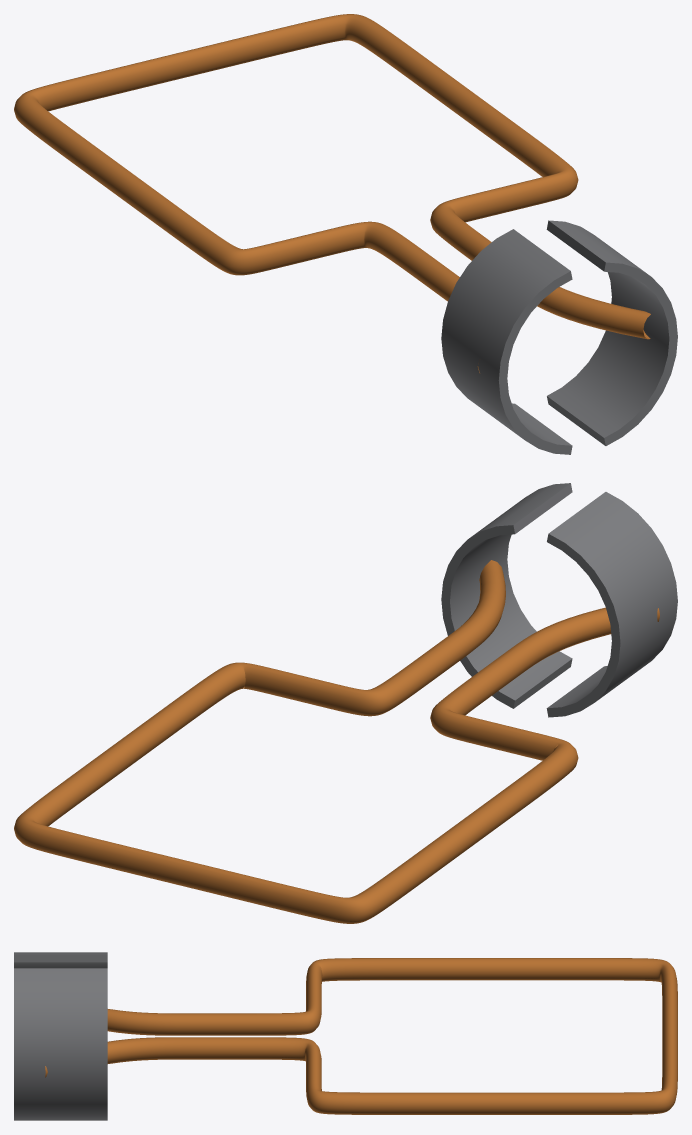
File: DCcoil9.glb
The picture shows the model from 3 angles, top to bottom: view 1: azimuth 30°, elevation 25°; view 2: azimuth 150°, elevation 25°; view 3: azimuth 270°, elevation 25°; orthographic projection. The views are drawn at different scales.
Parts seen in each view (by area): view 1: NURBSパス.006, 円柱.003, 円柱.001; view 2: NURBSパス.006, 円柱.003, 円柱.001; view 3: NURBSパス.006, 円柱.001, 円柱.003.
Boxes of the visible parts, <box> form: NURBSパス.006: <box>14,14,650,372</box>; 円柱.003: <box>441,229,572,454</box>; 円柱.001: <box>546,220,677,445</box>; NURBSパス.006: <box>14,560,659,923</box>; 円柱.003: <box>546,492,677,717</box>; 円柱.001: <box>441,483,572,708</box>; NURBSパス.006: <box>45,958,677,1114</box>; 円柱.001: <box>14,968,107,1120</box>; 円柱.003: <box>14,952,107,968</box>.
Size of the model in its own units: 3.64 by 1.77 by 7.08.
